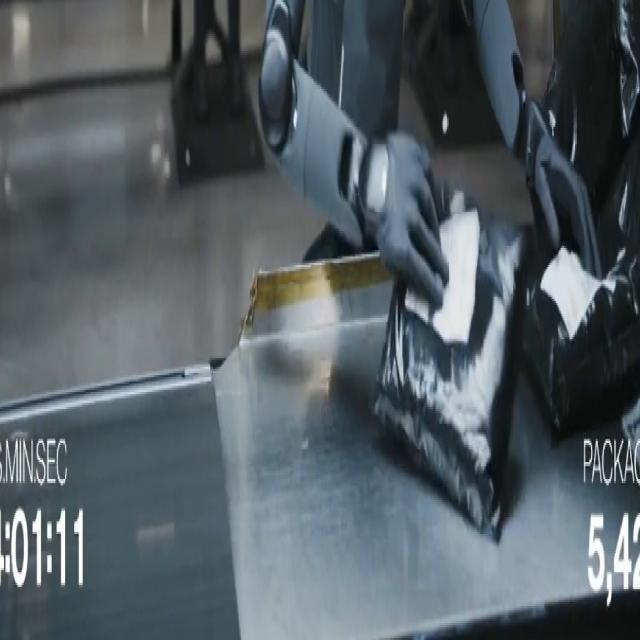package: (375, 187, 528, 540), (525, 0, 639, 436), (524, 140, 639, 436), (542, 0, 639, 211), (621, 399, 639, 476)
